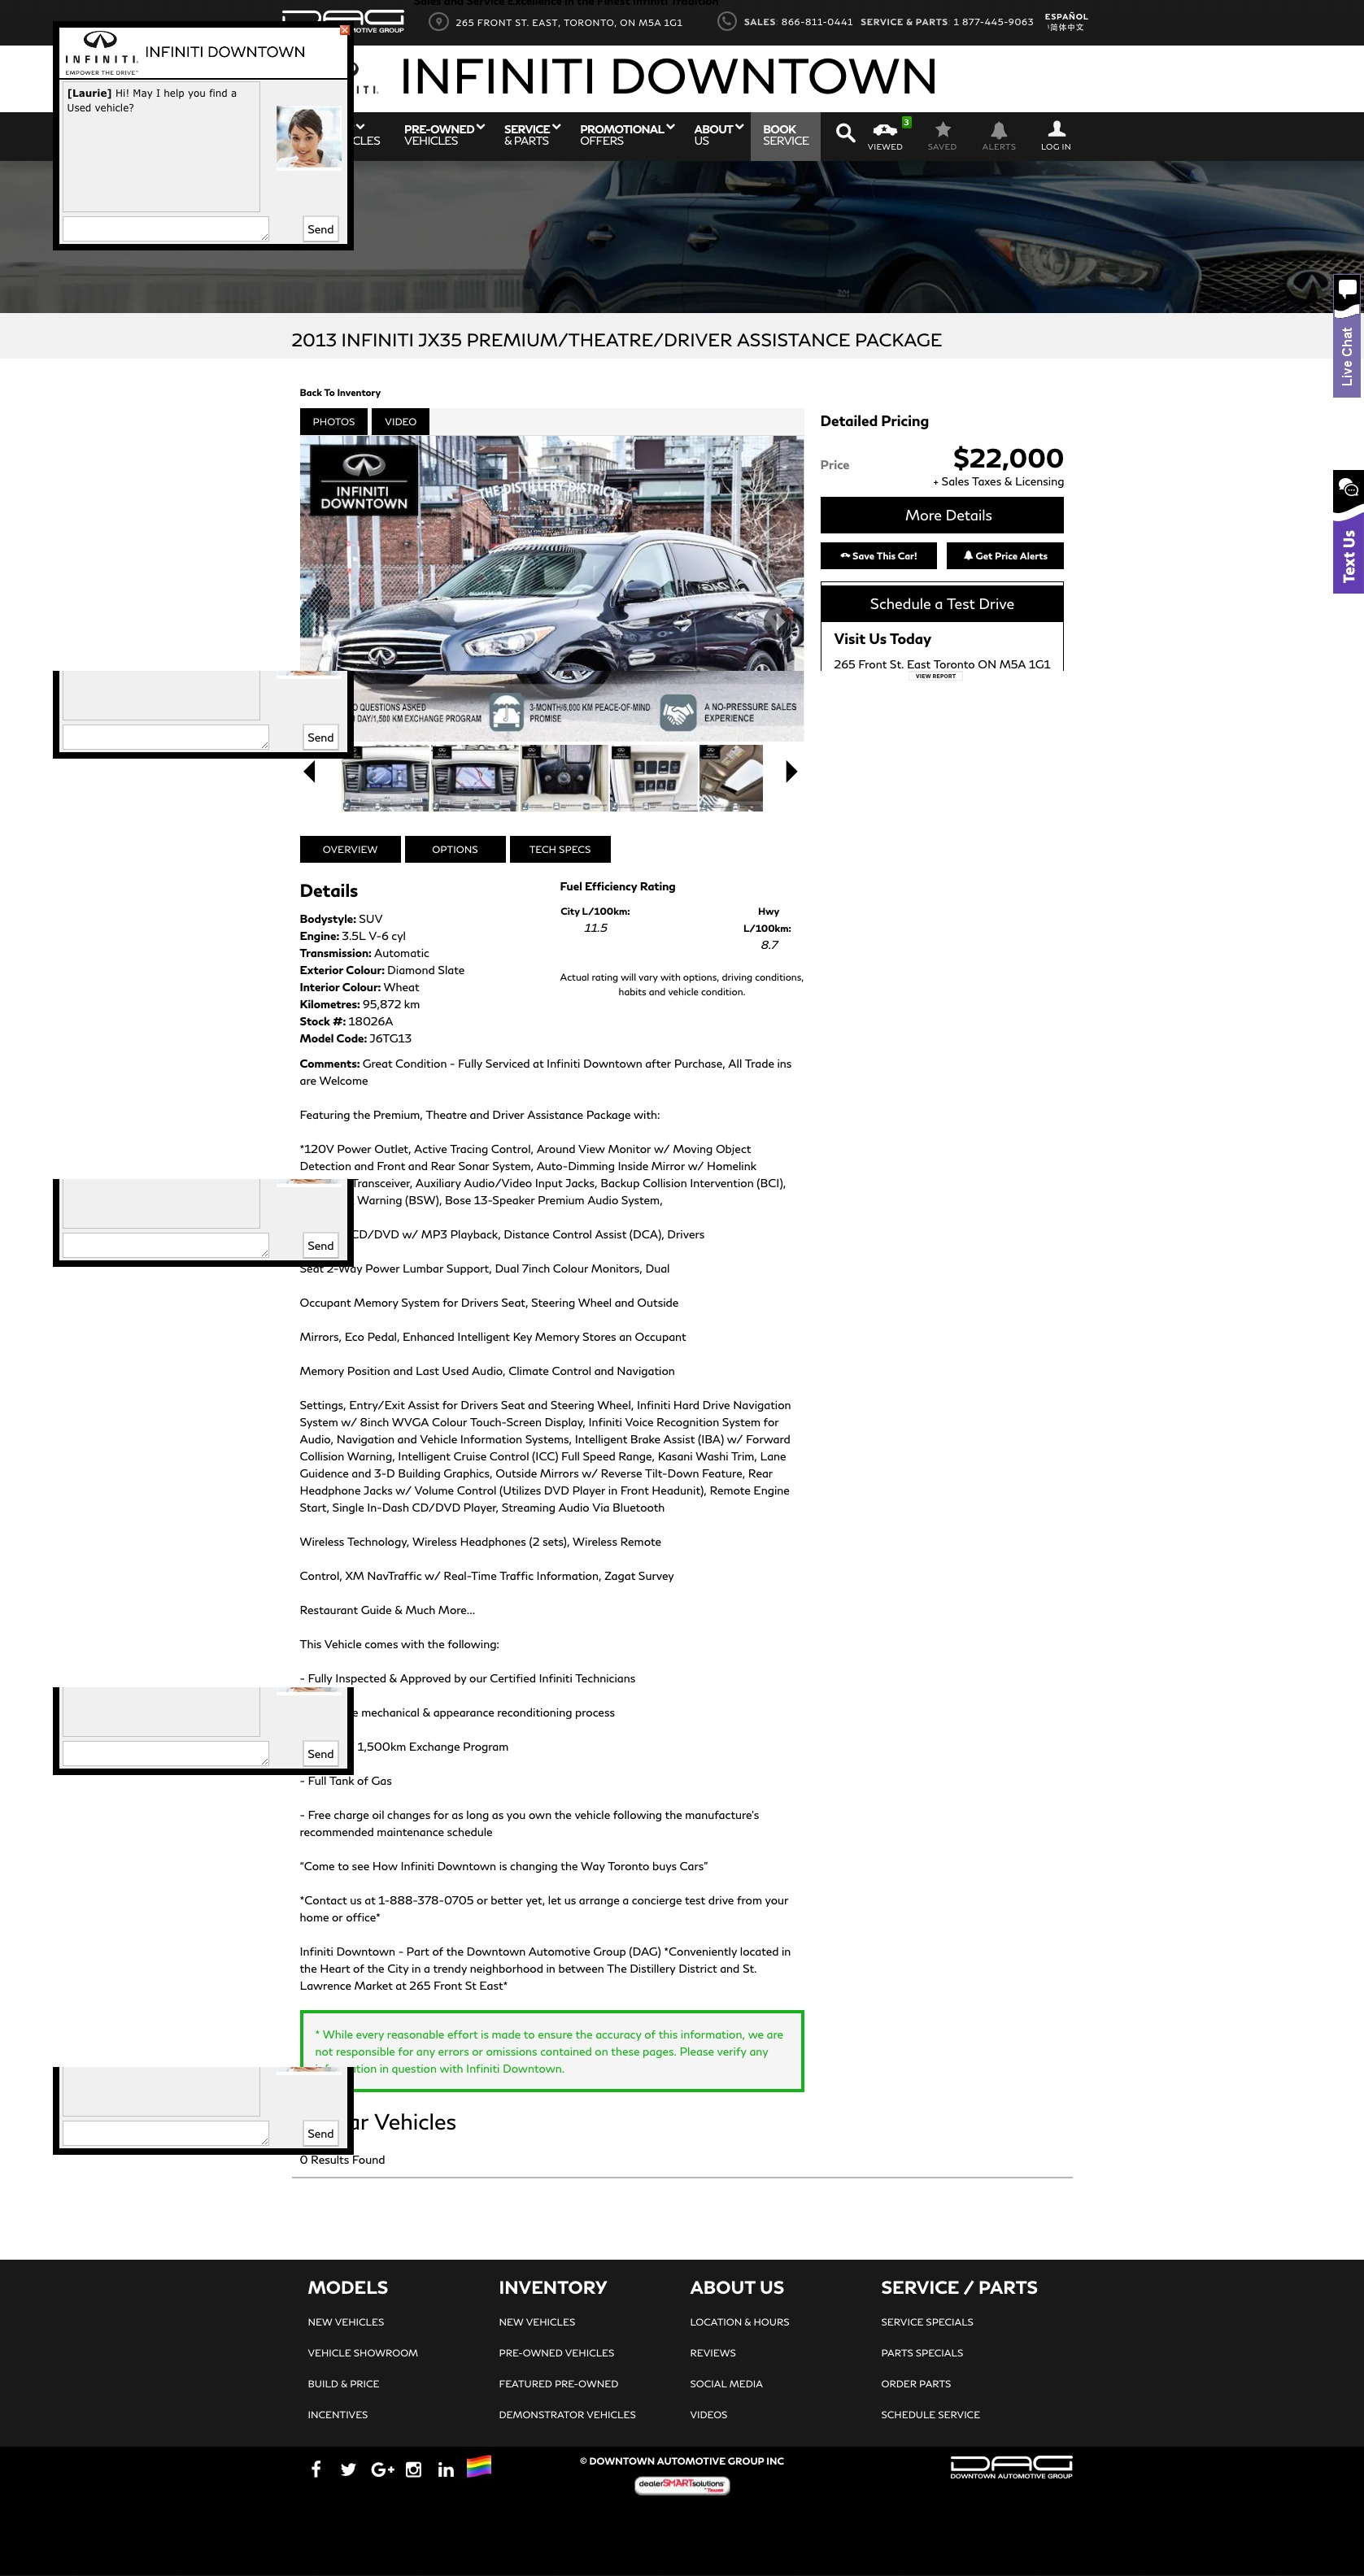car: (786, 760, 800, 784)
